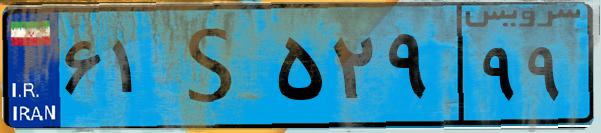1: (110, 28, 158, 98)
2: (330, 28, 385, 110)
5: (270, 28, 330, 110)
6: (57, 26, 110, 100)
9: (385, 28, 445, 110), (475, 38, 525, 113), (525, 38, 570, 115)
S: (158, 12, 270, 120)
